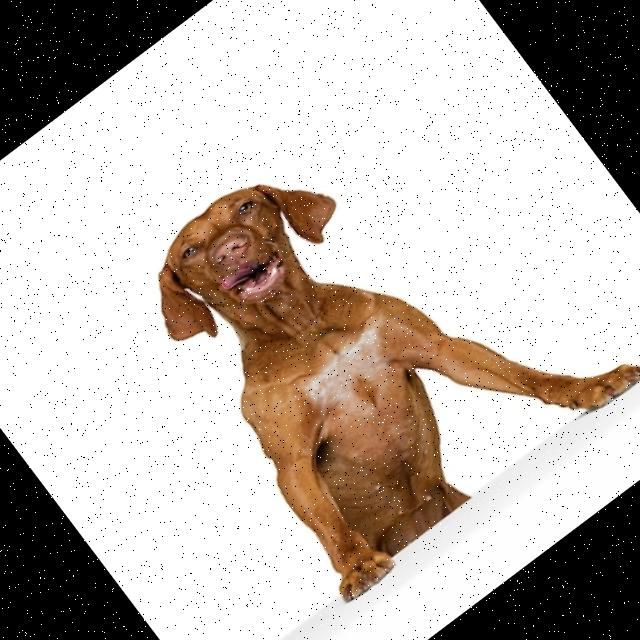Dog: (104, 50, 640, 605)
